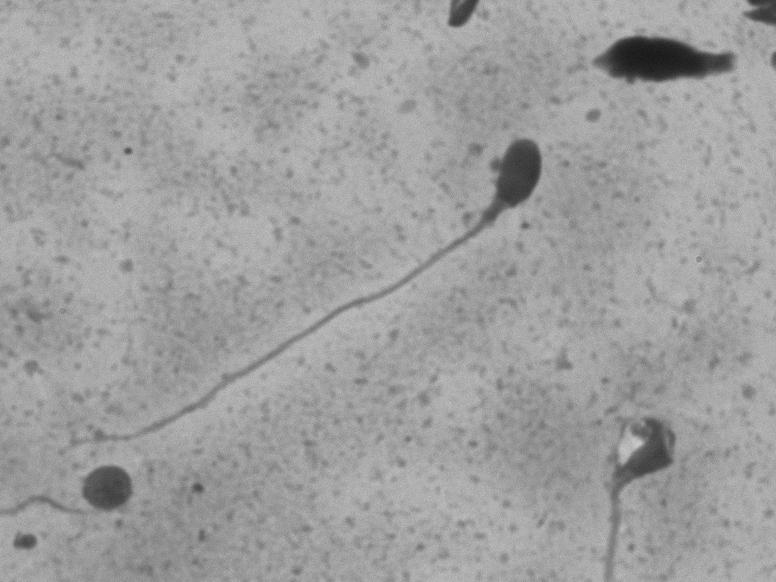Abnormal: (52, 109, 594, 458)
